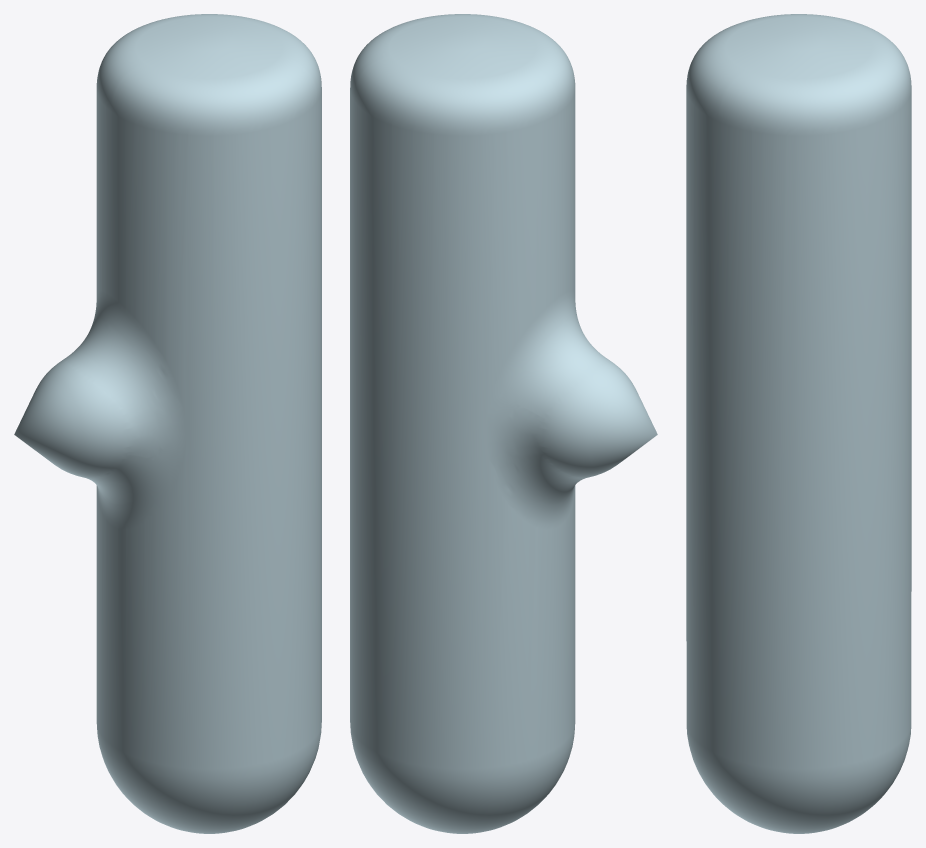
3 views of the same model, side by side, from view 1: azimuth 30°, elevation 25°; view 2: azimuth 150°, elevation 25°; view 3: azimuth 270°, elevation 25° (orthographic).
Visible parts, largest first — view 1: glass part; view 2: glass part; view 3: glass part.
Boxes of the visible parts, x1,y1,x2,y2 form: glass part: (14,14,321,833); glass part: (350,14,657,833); glass part: (686,14,911,833).
Size of the model in its own units: 52.98 by 135 by 35.31.
